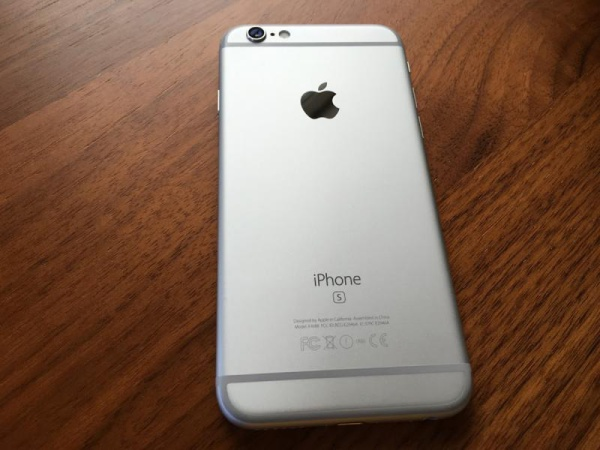apple: (290, 77, 365, 137)
